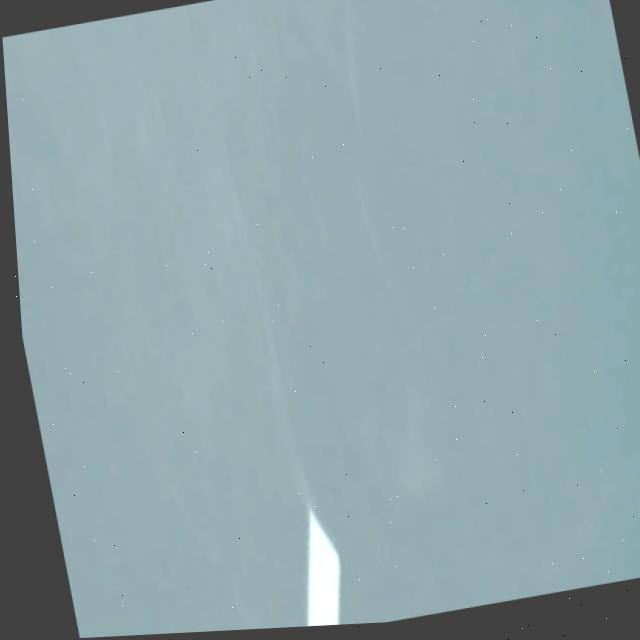center: (308, 507, 341, 626)
